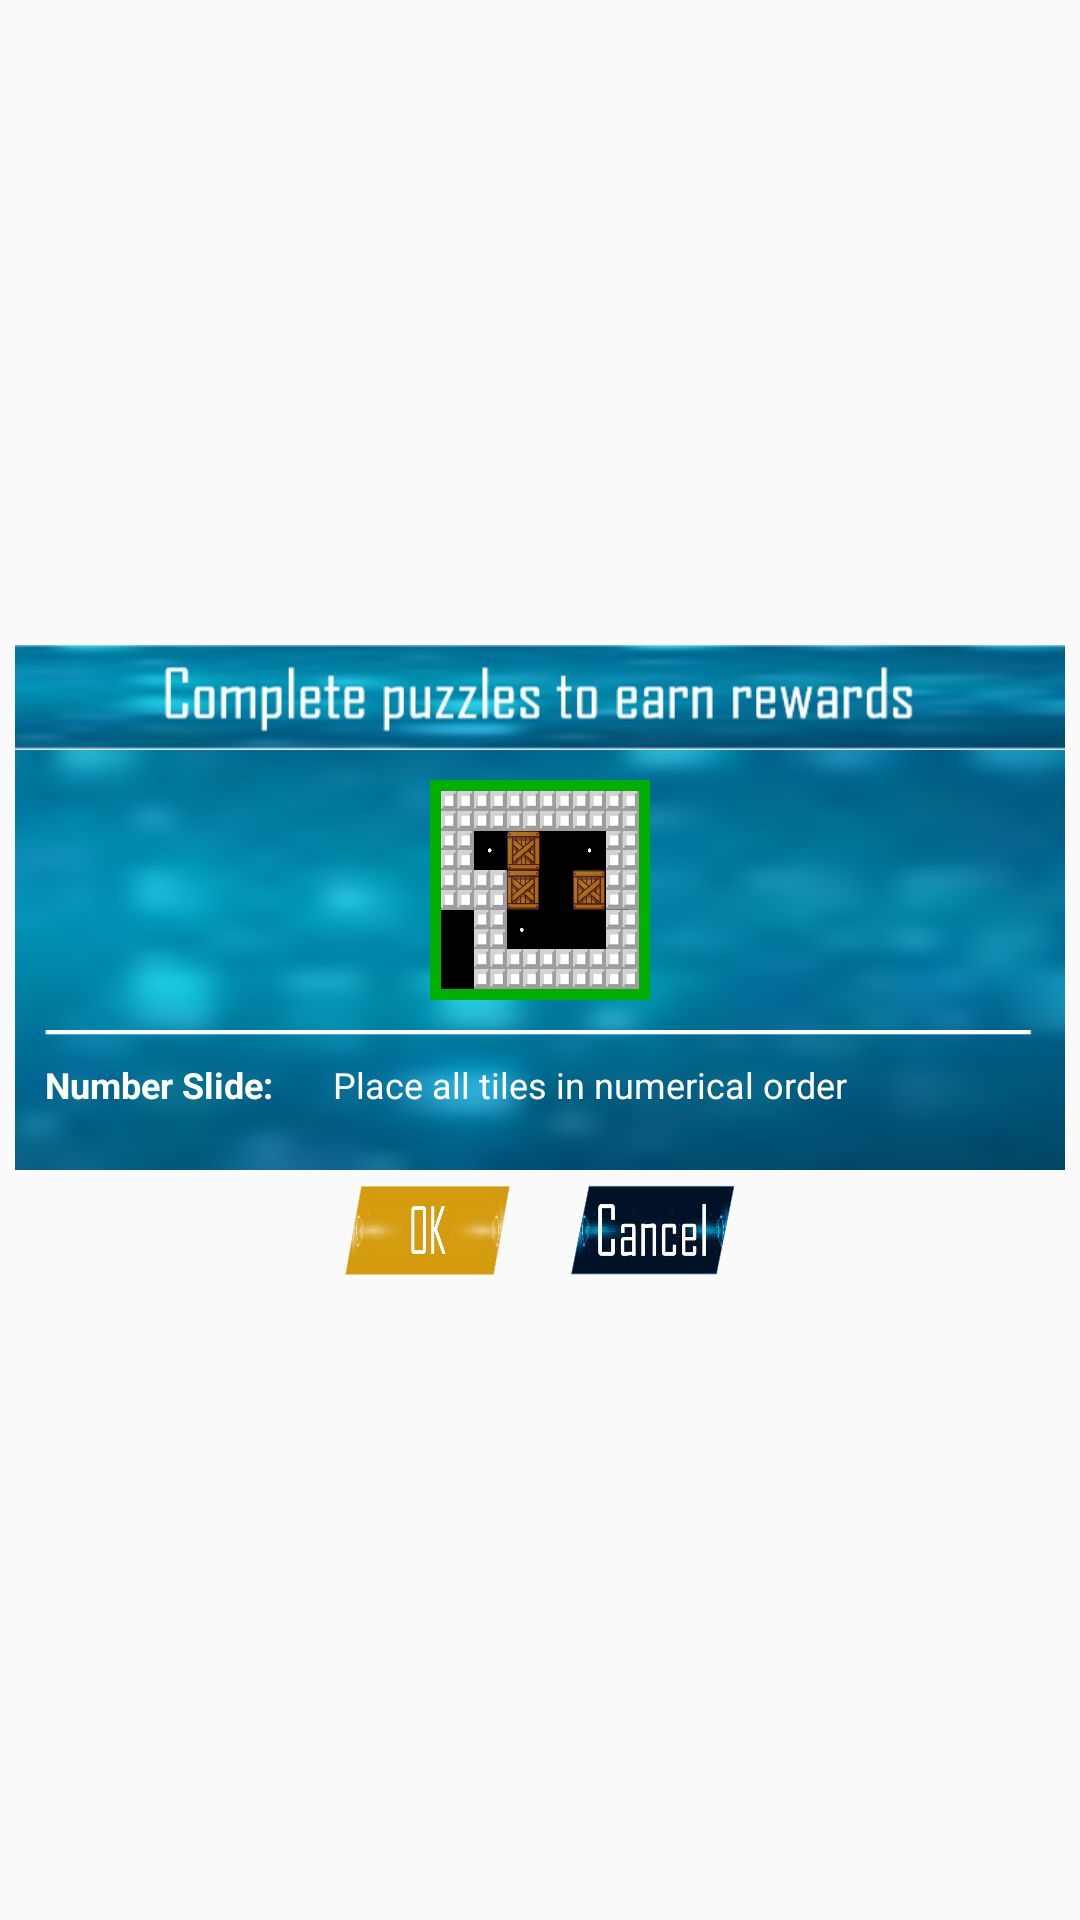

Locate icon controls on the screen. Image size 1080 × 1920, boxes as box=[x1, y1, x2, y2].
sokobanicon: box=[441, 791, 639, 989]
